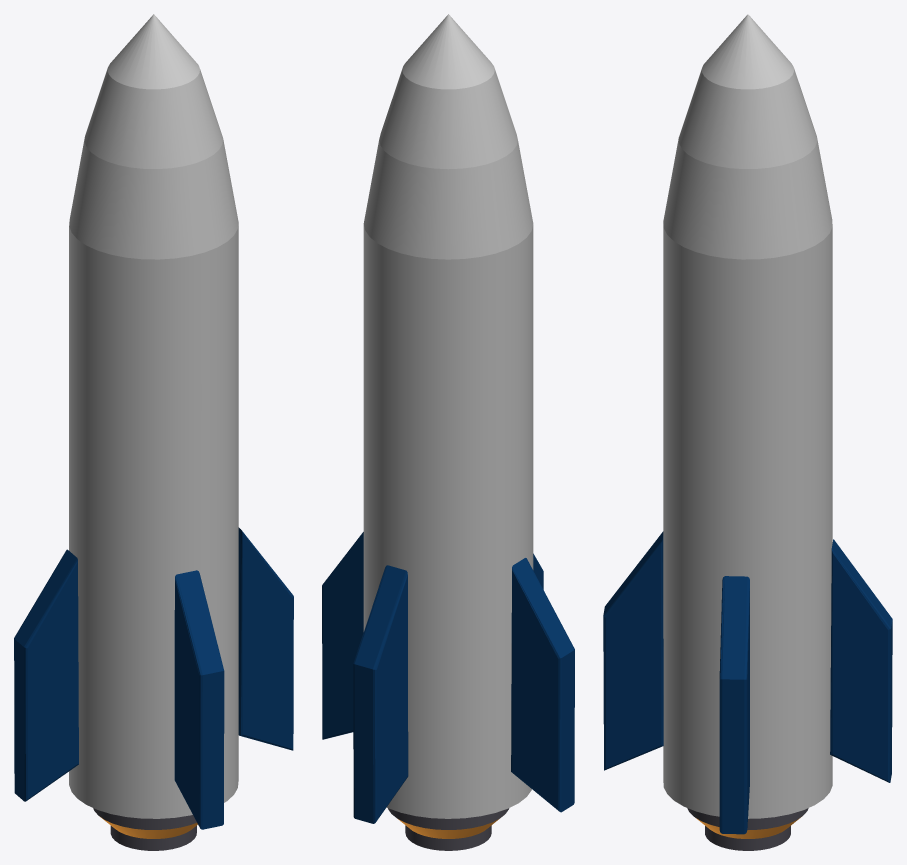
File: rocket.glb
3 renders of one model, left to right at view 1: azimuth 30°, elevation 25°; view 2: azimuth 150°, elevation 25°; view 3: azimuth 270°, elevation 25°, orthographic.
Bounding box in the file's own units: 19.15 × 58.55 × 18.75.
